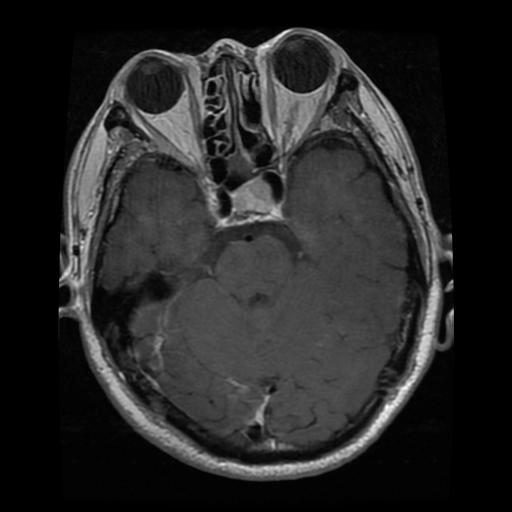Tumour-Pituitary: (202, 168, 299, 236)
